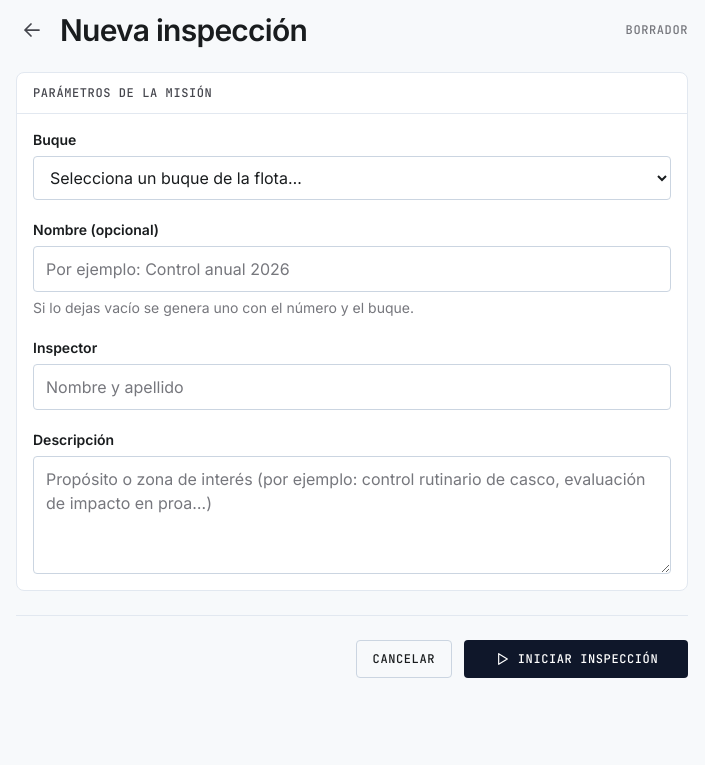
Test case: NuevaInspeccionPage › shows the backend error and lets the user try again
Step 1. Select "ARA Almirante Brown · Destructor" in the dropdown labelled "Buque" → point(352, 178), box x1=33 y1=156 x2=671 y2=200
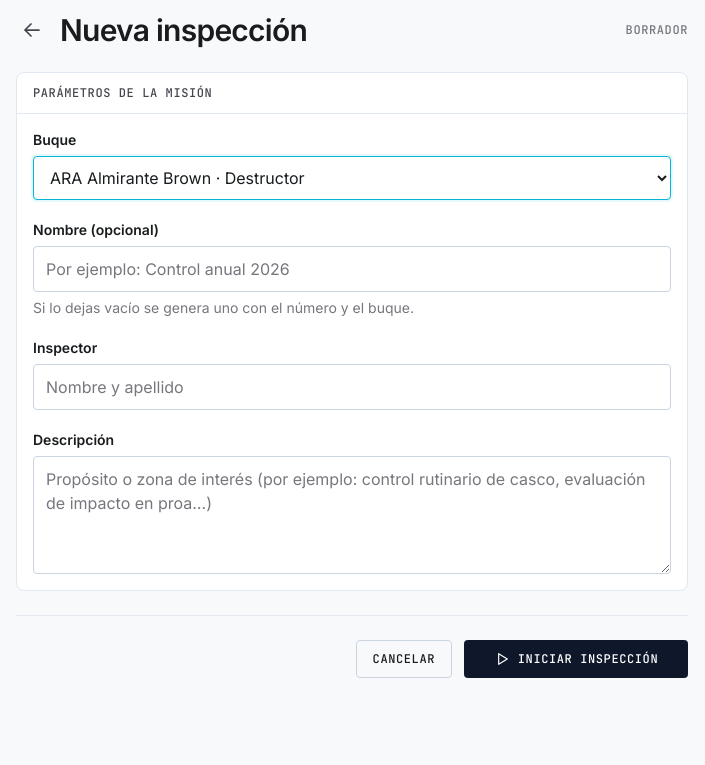
Step 2. Click the button "Iniciar inspección" → point(576, 659), box x1=464 y1=640 x2=688 y2=678
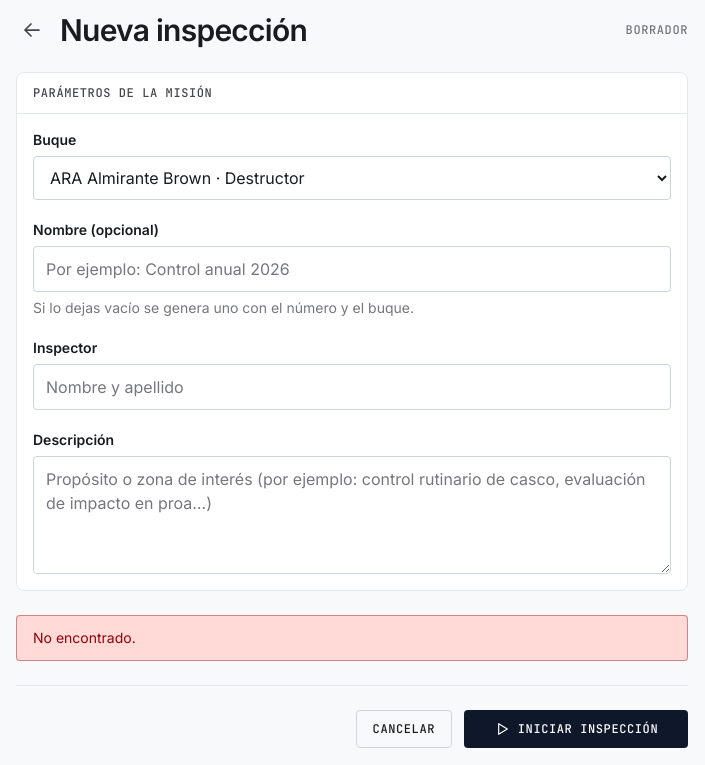
expect the button "Iniciar inspección" is enabled: met, box x1=464 y1=710 x2=688 y2=748
expect the message reads "No encontrado.": met, box x1=33 y1=629 x2=136 y2=646
